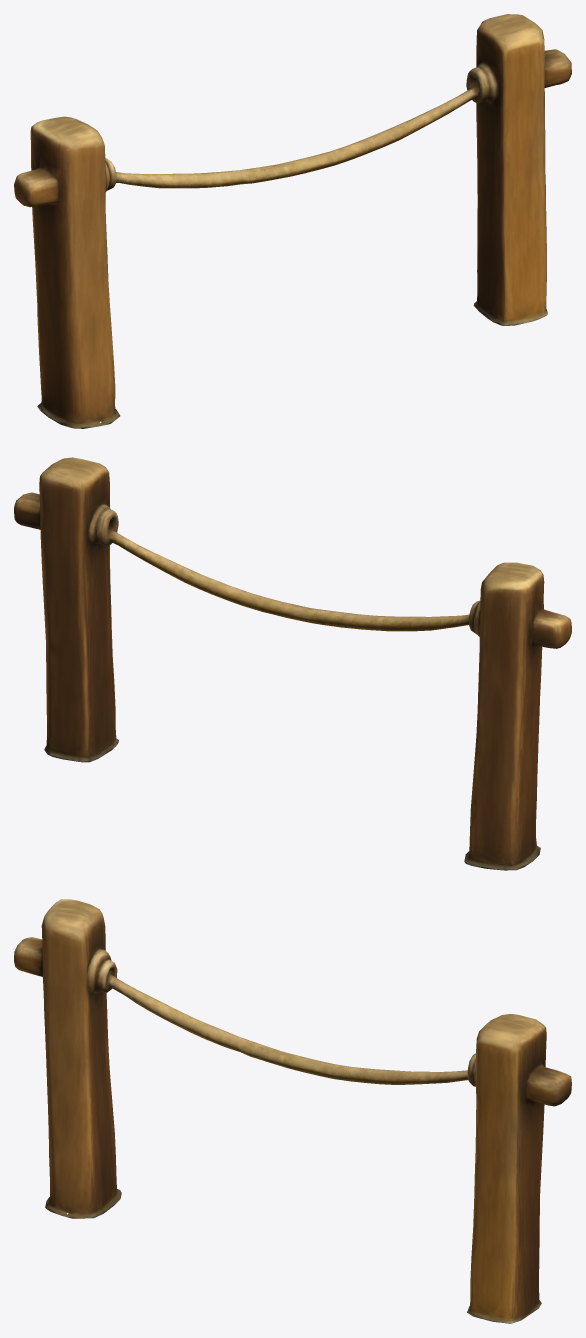
File: clothesline.glb
The picture shows the model from 3 angles, top to bottom: view 1: azimuth 30°, elevation 25°; view 2: azimuth 150°, elevation 25°; view 3: azimuth 330°, elevation 25°; orthographic projection.
Bounding box in the file's own units: 0.9998 × 0.5037 × 0.1358.
Materials: 1 (1 with a texture image).
